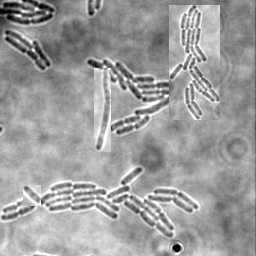Dividing: (94, 68, 111, 152), (1, 204, 37, 222), (3, 199, 33, 215)
Microcolony: (40, 167, 199, 238), (87, 59, 181, 136), (169, 5, 220, 120), (5, 30, 52, 72), (1, 1, 56, 26)
Rod: (23, 185, 41, 206)
